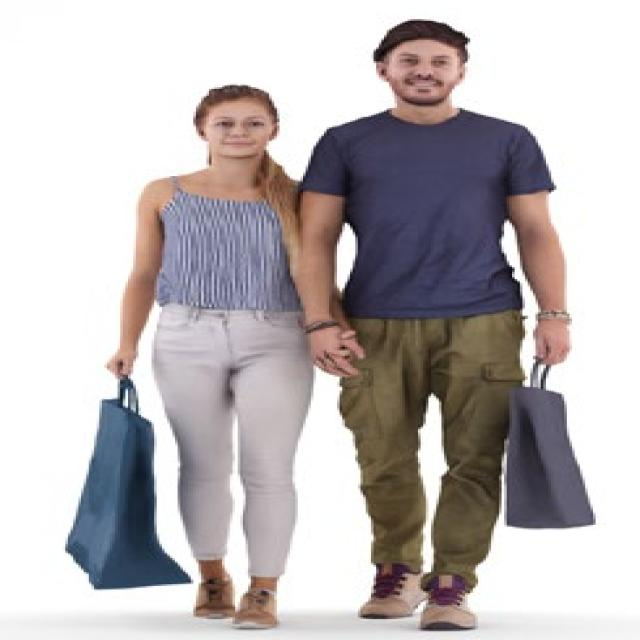standing: (302, 19, 570, 634), (104, 84, 302, 636)
